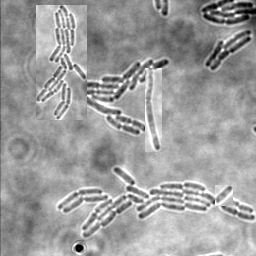Dividing: (145, 68, 162, 152), (219, 204, 255, 222), (223, 199, 253, 215)
Microcolony: (57, 167, 216, 238), (75, 59, 169, 136), (36, 5, 87, 120), (204, 30, 251, 72), (200, 1, 255, 26)
Rod: (215, 185, 233, 206)
